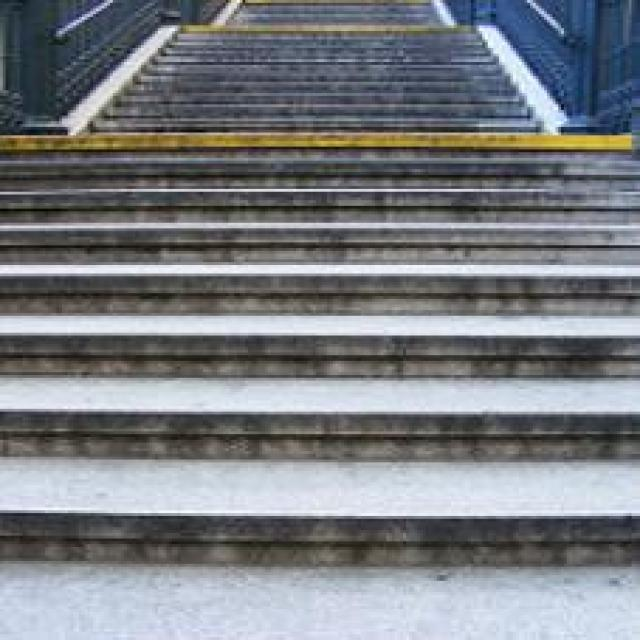upstair: (46, 156, 582, 441)
